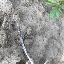Purslane: (0, 0, 64, 31)
